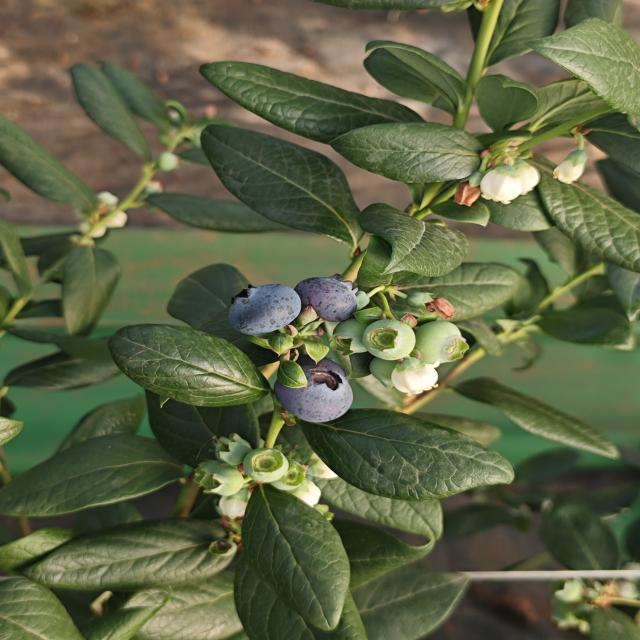ripe: (270, 357, 356, 426), (225, 282, 304, 338), (293, 274, 360, 324)
